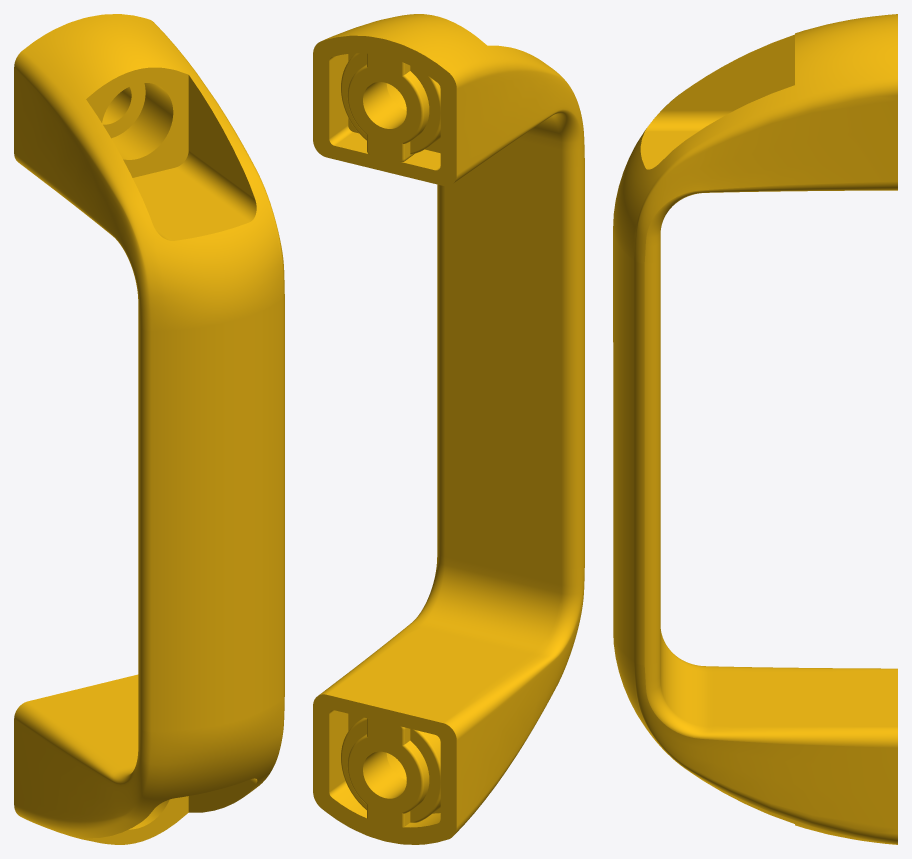
The model's file is Handle.gltf.
3 renders of one model, left to right at view 1: azimuth 30°, elevation 25°; view 2: azimuth 150°, elevation 25°; view 3: azimuth 270°, elevation 25°, orthographic.
Parts seen in each view (by area): view 1: 47065T164_Black Plastic Pull Handle; view 2: 47065T164_Black Plastic Pull Handle; view 3: 47065T164_Black Plastic Pull Handle.
Boxes of the visible parts, box(x1,y1,x2,y2) form: 47065T164_Black Plastic Pull Handle: box(14, 14, 284, 844); 47065T164_Black Plastic Pull Handle: box(313, 14, 584, 844); 47065T164_Black Plastic Pull Handle: box(613, 14, 897, 844).
Size of the model in its own units: 0.021 by 0.112 by 0.036.
